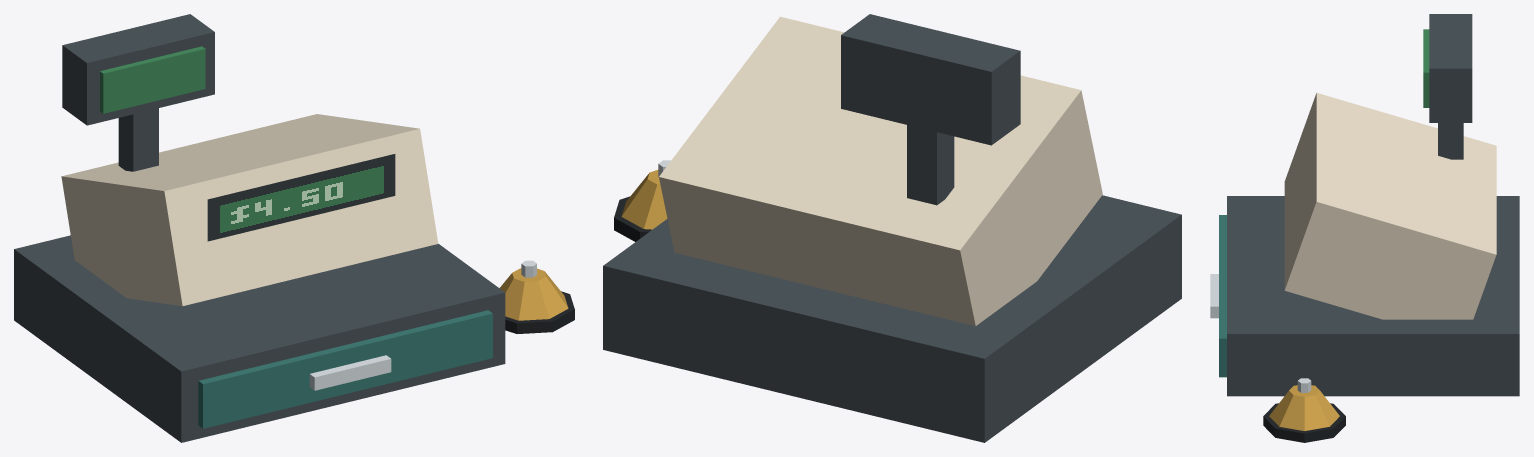
File: cash_register.glb
3 views of the same model, side by side, from view 1: azimuth 30°, elevation 25°; view 2: azimuth 150°, elevation 25°; view 3: azimuth 270°, elevation 25° (orthographic). The views are drawn at different scales.
Visible parts, largest first — view 1: Register_Body, Service_Bell; view 2: Register_Body, Service_Bell; view 3: Register_Body, Service_Bell.
Boxes of the visible parts, x1,y1,x2,y2 form: Register_Body: (14,14,505,442); Service_Bell: (499,260,574,333); Register_Body: (603,14,1181,442); Service_Bell: (614,160,670,241); Register_Body: (1210,14,1519,396); Service_Bell: (1263,378,1345,442).
Size of the model in its own units: 0.508 by 0.325 by 0.3595.
Materials: 1 (1 with a texture image).
